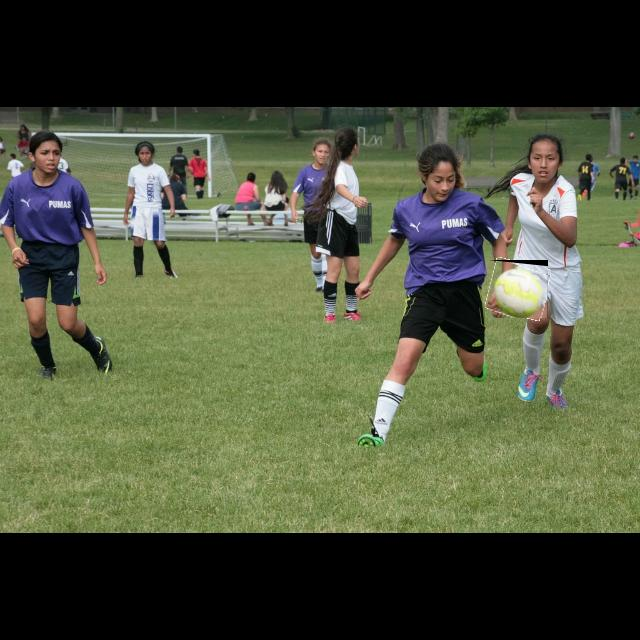Football: (488, 260, 548, 318)
